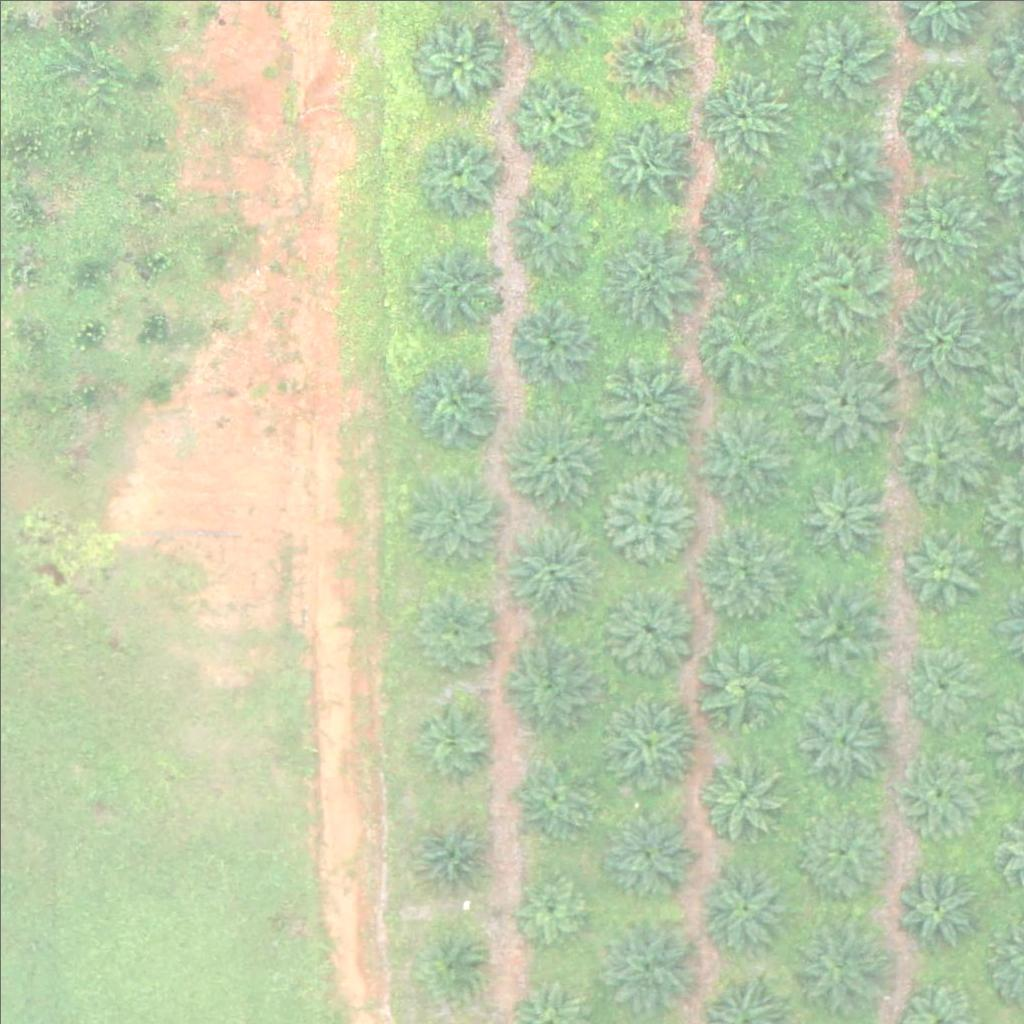Kelapa_Sawit: (602, 912, 702, 1013), (888, 177, 988, 278), (788, 578, 888, 679), (693, 525, 793, 626), (688, 404, 788, 505), (597, 465, 697, 566), (598, 354, 698, 455), (597, 221, 697, 322), (495, 520, 595, 621), (502, 409, 602, 510), (403, 350, 503, 451), (787, 14, 887, 115), (499, 632, 599, 732), (599, 693, 699, 793), (693, 636, 793, 736), (788, 916, 888, 1016), (793, 689, 893, 789), (892, 405, 992, 505), (794, 357, 894, 457), (685, 296, 785, 396), (686, 176, 786, 276), (603, 581, 691, 670), (409, 689, 497, 777), (506, 752, 594, 840), (605, 808, 693, 896), (798, 468, 886, 556), (799, 246, 887, 334), (796, 127, 884, 215), (509, 298, 597, 386), (407, 242, 495, 330), (411, 128, 499, 216), (410, 18, 498, 106), (696, 71, 784, 159), (406, 808, 493, 896), (701, 860, 788, 948), (698, 749, 785, 837), (798, 800, 885, 888), (893, 297, 980, 385), (506, 186, 593, 274), (410, 588, 497, 676), (410, 473, 497, 561), (601, 114, 688, 202), (509, 75, 596, 163), (605, 17, 692, 105), (897, 68, 984, 156), (896, 866, 971, 942), (898, 755, 973, 831), (901, 532, 976, 608), (510, 867, 585, 942), (906, 641, 981, 716), (425, 935, 488, 998)
